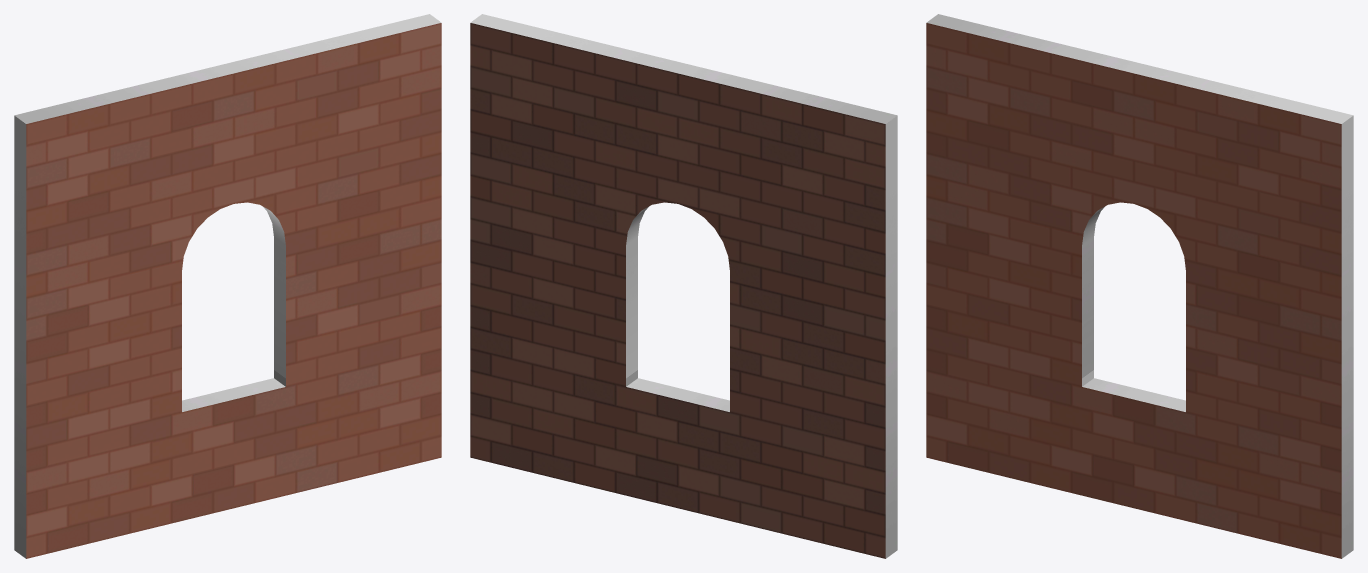
Rendered from Wall_07.glb.
3 renders of one model, left to right at view 1: azimuth 30°, elevation 25°; view 2: azimuth 150°, elevation 25°; view 3: azimuth 330°, elevation 25°, orthographic.
Parts seen in each view (by area): view 1: Wall_07; view 2: Wall_07; view 3: Wall_07.
Part boxes in pixels (bbox=[...]): Wall_07: bbox=[14, 14, 441, 558]; Wall_07: bbox=[470, 14, 897, 558]; Wall_07: bbox=[926, 14, 1353, 558].
Bounding box in the file's own units: 4 × 4 × 0.2.
3 materials, 3 textured.
